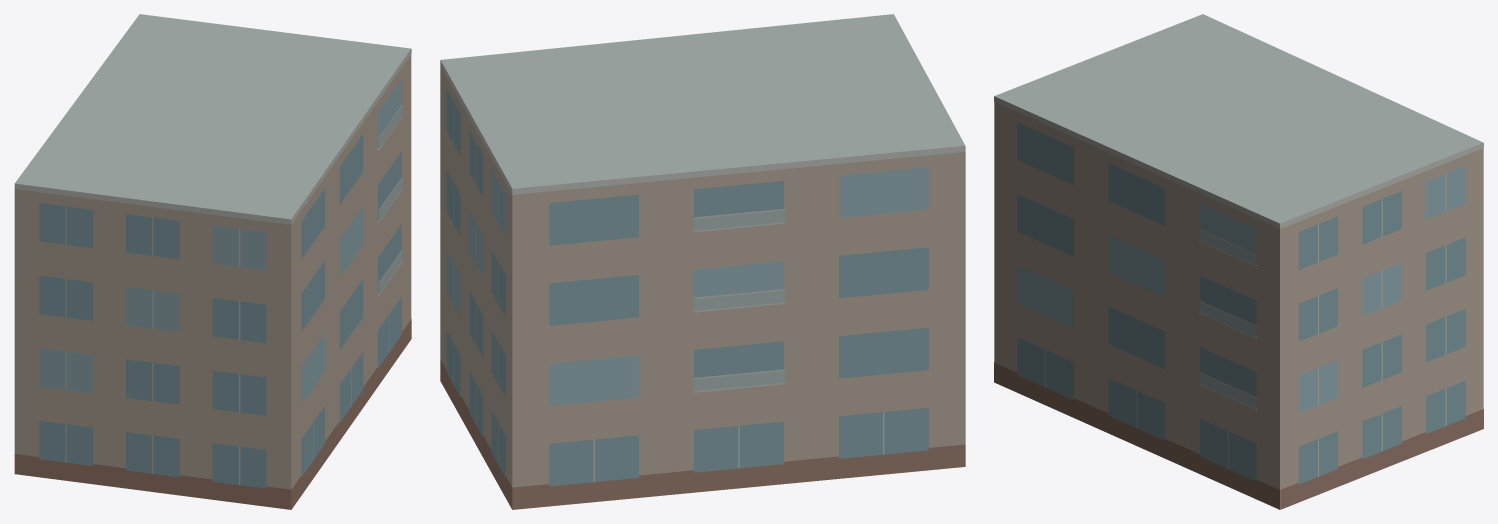
Rendered from survey-upis-32684467.glb.
The picture shows the model from 3 angles, left to right: view 1: azimuth 30°, elevation 25°; view 2: azimuth 150°, elevation 25°; view 3: azimuth 270°, elevation 25°; orthographic projection. The views are drawn at different scales.
Visible parts, largest first — view 1: survey-upis-32684467.tmp; view 2: survey-upis-32684467.tmp; view 3: survey-upis-32684467.tmp.
Part boxes in pixels (x1=…): survey-upis-32684467.tmp: x1=14, y1=14, x2=411, y2=509; survey-upis-32684467.tmp: x1=440, y1=14, x2=965, y2=509; survey-upis-32684467.tmp: x1=994, y1=14, x2=1483, y2=509.
Bounding box in the file's own units: 20.27 × 12.9 × 20.
